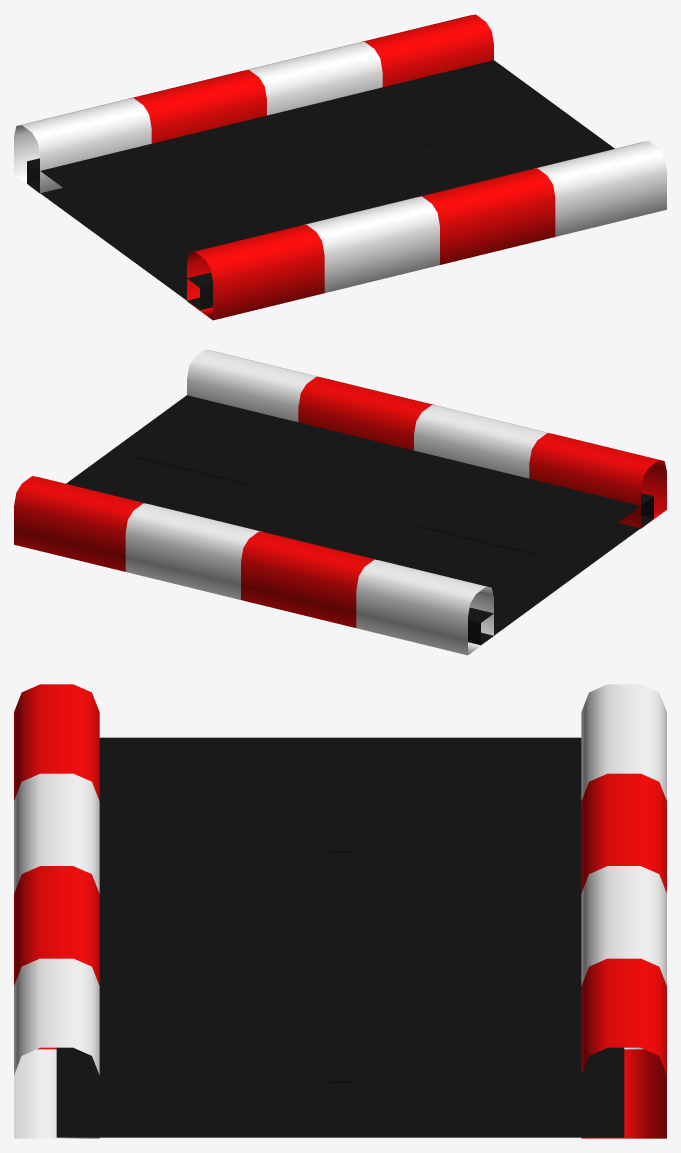
The picture shows the model from 3 angles, top to bottom: view 1: azimuth 30°, elevation 25°; view 2: azimuth 150°, elevation 25°; view 3: azimuth 270°, elevation 25°; orthographic projection. The views are drawn at different scales.
Parts seen in each view (by area): view 1: StraightTrack01_Cube.001_StraightTrack01_Cube.001, Cube_Cube.001, Cube.001_Cube.002; view 2: StraightTrack01_Cube.001_StraightTrack01_Cube.001, Cube_Cube.001, Cube.001_Cube.002; view 3: StraightTrack01_Cube.001_StraightTrack01_Cube.001, Cube_Cube.001, Cube.001_Cube.002.
Part boxes in pixels (x1,y1,x2,y2): StraightTrack01_Cube.001_StraightTrack01_Cube.001: [14, 14, 666, 320]; Cube_Cube.001: [427, 116, 548, 149]; Cube.001_Cube.002: [140, 186, 260, 219]; StraightTrack01_Cube.001_StraightTrack01_Cube.001: [14, 349, 666, 655]; Cube_Cube.001: [132, 451, 253, 484]; Cube.001_Cube.002: [420, 521, 540, 554]; StraightTrack01_Cube.001_StraightTrack01_Cube.001: [14, 684, 666, 1138]; Cube_Cube.001: [329, 989, 351, 1082]; Cube.001_Cube.002: [329, 759, 351, 852].
Size of the model in its own units: 15.29 by 1.78 by 11.61.
